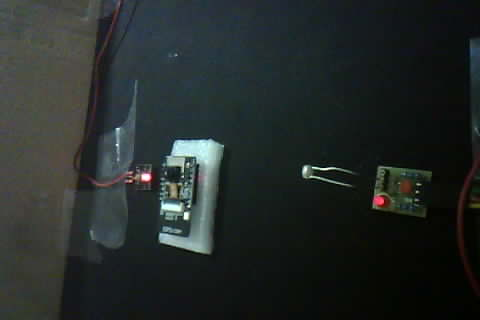esp32: (157, 140, 218, 251)
